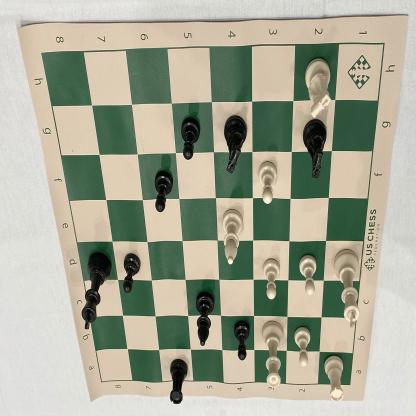black-bishop: (193, 289, 217, 351)
black-king: (79, 251, 113, 336)
black-knight: (301, 118, 332, 183), (222, 112, 249, 176)
black-pawn: (179, 114, 204, 165), (152, 166, 176, 216), (121, 250, 143, 298), (232, 318, 252, 367)
black-rook: (166, 356, 192, 410)
white-bishop: (221, 205, 245, 267)
white-king: (331, 247, 361, 331)
white-knight: (302, 54, 335, 122)
white-pawn: (260, 254, 284, 304), (257, 158, 280, 208), (298, 252, 318, 300), (293, 323, 313, 370)
white-queen: (260, 318, 285, 391)
white-rook: (321, 350, 348, 406)
